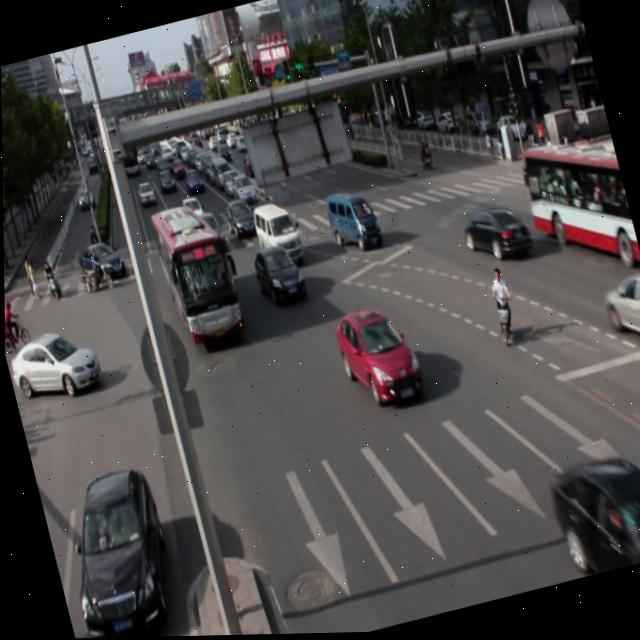car: (50, 459, 182, 639), (541, 442, 640, 584), (330, 297, 424, 414), (457, 200, 535, 271), (248, 239, 306, 309), (596, 270, 640, 361)
truck: (323, 186, 383, 259), (249, 198, 305, 273)
van: (514, 129, 640, 289), (147, 197, 244, 346)
